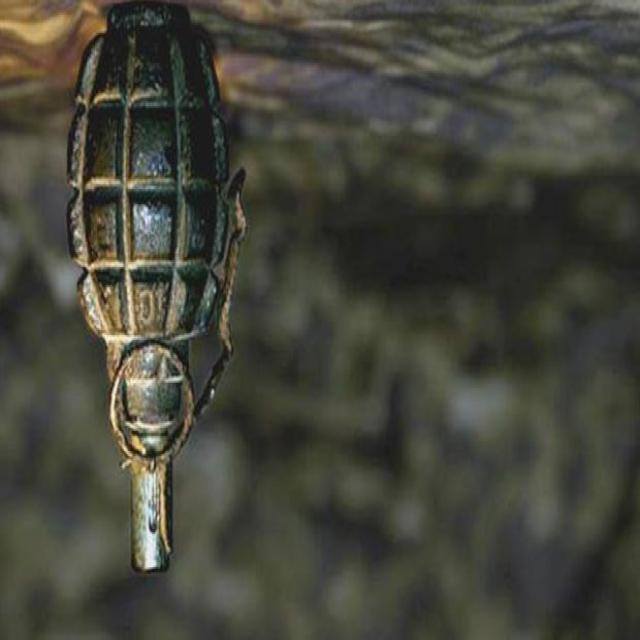grenade: (66, 3, 250, 576)
